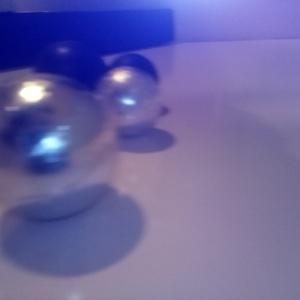alive_ball: (1, 74, 117, 219), (95, 66, 161, 137)
dead_ball: (32, 43, 107, 116), (106, 53, 160, 105)
